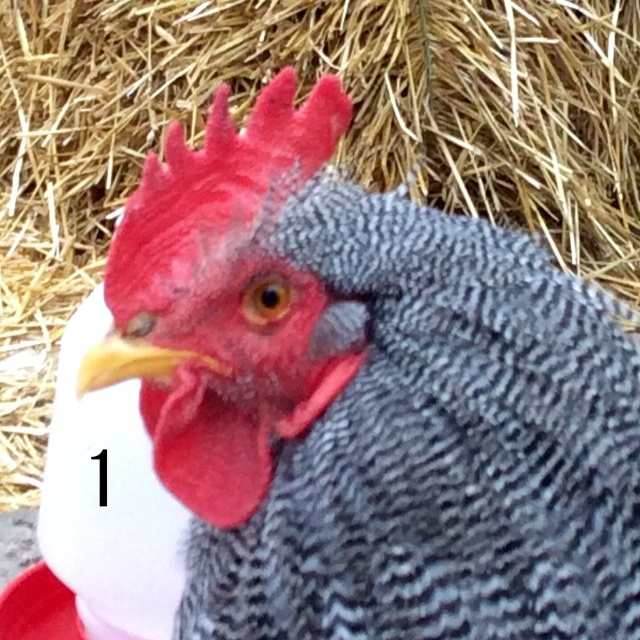Chicken: (68, 73, 640, 640)
